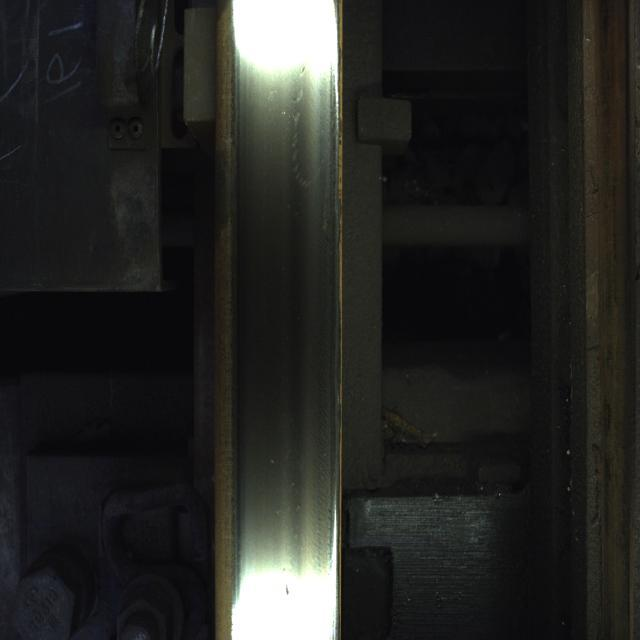normal: (241, 31, 329, 559)
